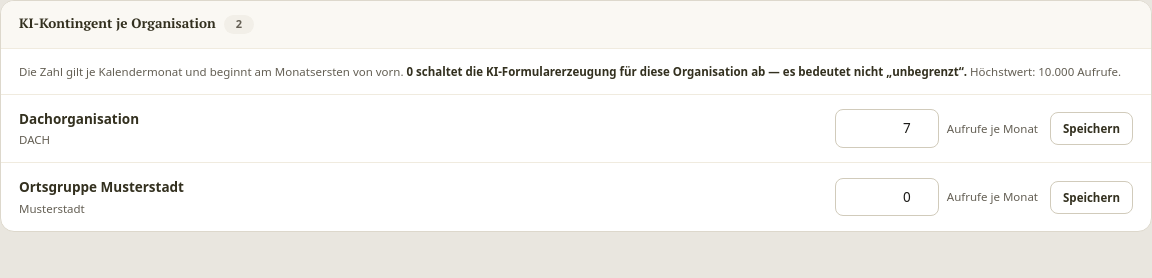
Test: KI-Kontingent je Organisation › verschickt ein leeres Feld nicht als 0, sondern sagt es
The width and height of the screenshot is (1152, 278).
Clear the number field labelled "Dachorganisation" at (887,129), box [835, 109, 939, 148]
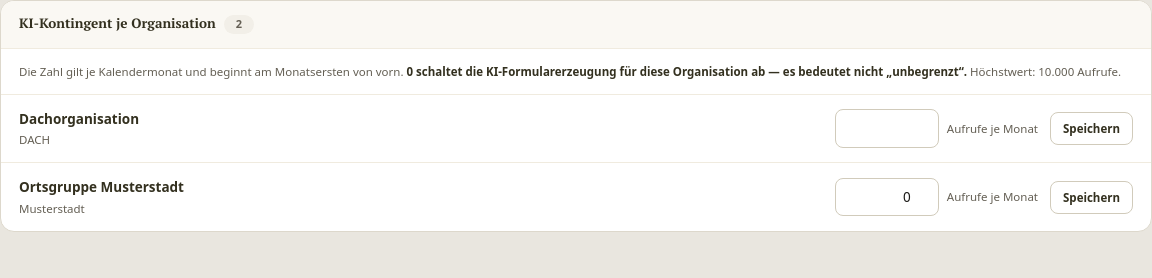
Click the button "Speichern" in the row of "Dachorganisation" at (1092,128), box [1050, 112, 1133, 145]
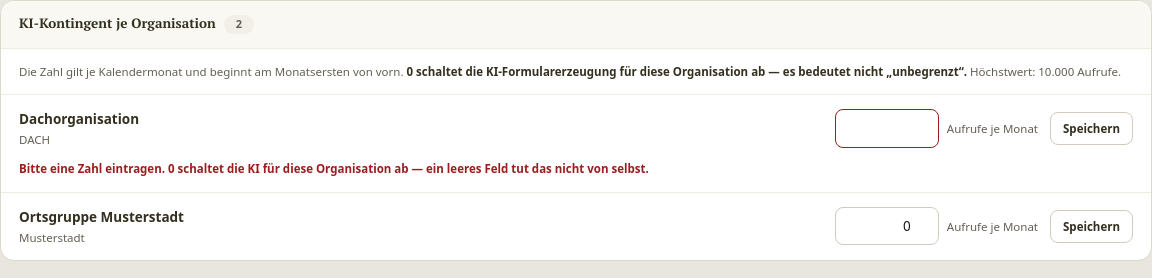
Now the message shows "Bitte eine Zahl eintragen", box [19, 161, 649, 176]
